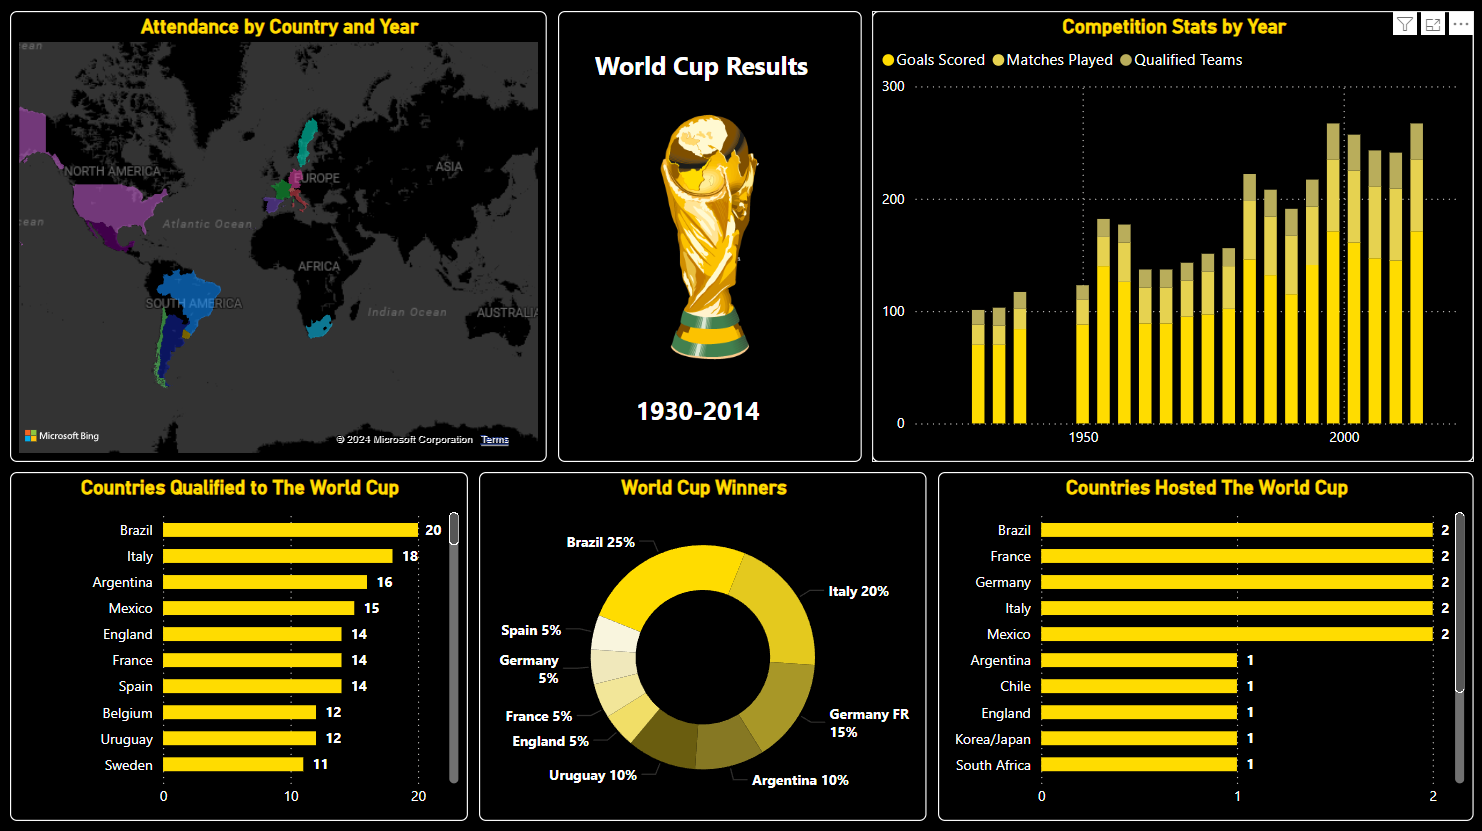

Layout of this report page (visuals, bound fields, positions):
{"tool":"powerbi","page":{"name":"World_Cup_Results","canvas":[1280,720],"ordinal":0},"visuals":[{"type":"image","box":[481.5,12.6,261.6,389.1],"z":0},{"type":"columnChart","title":"Competition Stats by Year","fields":{"Y":["Sum(WorldCups.GoalsScored)","Sum(WorldCups.MatchesPlayed)","Sum(WorldCups.QualifiedTeams)"],"Category":["WorldCups.Year"]},"box":[751.9,12.6,519.4,389.1],"z":1000},{"type":"donutChart","title":"World Cup Winners","fields":{"Category":["WorldCups.Winner"],"Y":["CountNonNull(WorldCups.Winner)"]},"box":[413.4,410.5,386.1,300.5],"z":2000},{"type":"barChart","title":"Countries Qualified to The World Cup","fields":{"Category":["World Cup - Tableau format.Team"],"Y":["Count(World Cup - Tableau format.Year)"]},"box":[8.8,410.5,394.9,300.5],"z":3000},{"type":"barChart","title":"Countries Hosted The World Cup","fields":{"Category":["WorldCups.Country"],"Y":["CountNonNull(WorldCups.Country)"]},"box":[809.2,410.5,462,300.5],"z":4000},{"type":"filledMap","title":"Attendance by Country and Year","fields":{"Category":["WorldCups.Country"],"Series":["WorldCups.Attendance"]},"box":[8.8,12.6,463,389.1],"z":5000},{"type":"textbox","box":[507.7,40.9,209.1,41.8],"z":6000},{"type":"textbox","box":[543.7,338.5,125.5,41.8],"z":7000}]}

Visuals, with their boxes in screenshot pixels (x1, y1, x2, y2), scaled from the page's 1280x720 canvas onto the 1482x831 screenshot:
image: (x1=557, y1=15, x2=860, y2=464)
"Competition Stats by Year" columnChart: (x1=871, y1=15, x2=1472, y2=464)
"World Cup Winners" donutChart: (x1=479, y1=474, x2=926, y2=821)
"Countries Qualified to The World Cup" barChart: (x1=10, y1=474, x2=467, y2=821)
"Countries Hosted The World Cup" barChart: (x1=937, y1=474, x2=1472, y2=821)
"Attendance by Country and Year" filledMap: (x1=10, y1=15, x2=546, y2=464)
textbox: (x1=588, y1=47, x2=830, y2=95)
textbox: (x1=630, y1=391, x2=775, y2=439)
